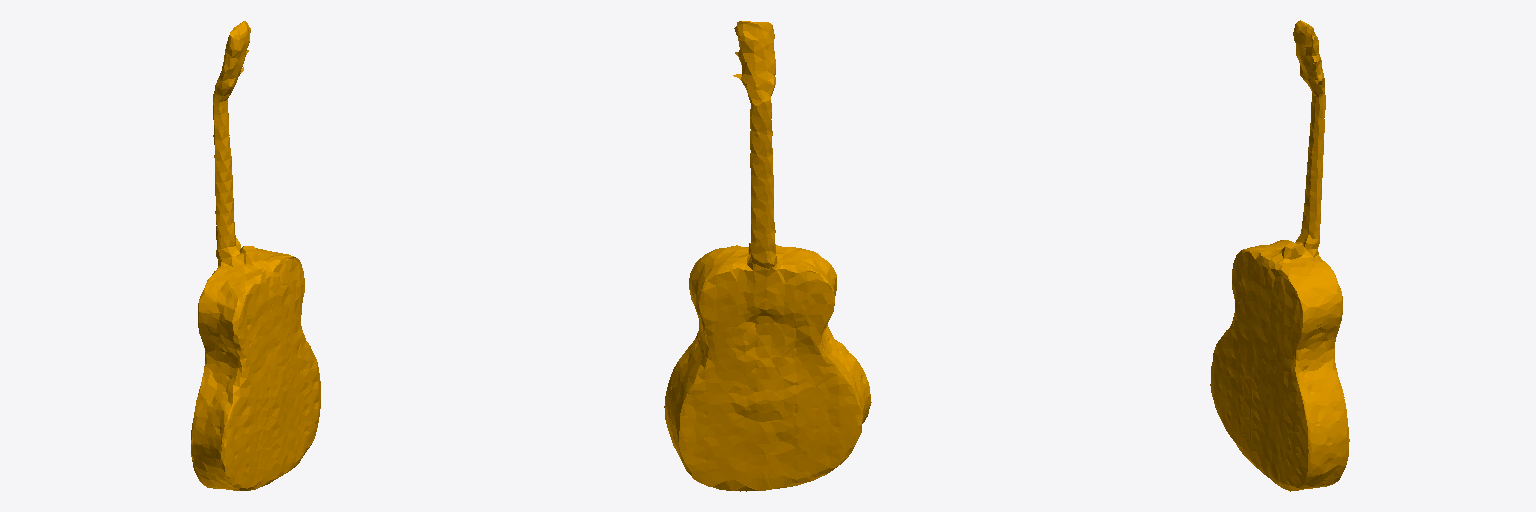
The robot description file, URDF, robot "model_1778240713":
<?xml version="1.0" ?>
<robot name="model_1778240713">
  <link name="base_link">
    <inertial>
      <origin xyz="0.05909789961566357 -0.47775921594201026 2.5401233342113034" rpy="0 0 0"/>
      <mass value="1.9181677014467473"/>
      <inertia ixx="1.4625334563880206" ixy="0.044890112172882544" ixz="0.13544441176253125" iyy="0.408132209501002" iyz="0.0699907363821613" izz="1.5995641864362085"/>
    </inertial>
    <visual>
      <origin xyz="0 0 2.5" rpy="0 0 0"/>
      <geometry>
        <mesh filename="visual.obj" scale="5.0 5.0 5.0"/>
      </geometry>
    </visual>
    <collision>
      <origin xyz="0 0 2.5" rpy="0 0 0"/>
      <geometry>
        <mesh filename="collision.obj" scale="5.0 5.0 5.0"/>
      </geometry>
    </collision>
  </link>
</robot>

--- Render facts (derived) ---
The picture shows the robot from 3 angles, left to right: view 1: azimuth 30°, elevation 25°; view 2: azimuth 150°, elevation 25°; view 3: azimuth 270°, elevation 25°; orthographic projection.
Robot: model_1778240713 — 1 links, 0 joints (none); root link base_link; default pose: all joints at 0.
Links seen in each view (by area): view 1: base_link; view 2: base_link; view 3: base_link.
Link boxes in pixels (x1=…): base_link: x1=191, y1=21, x2=320, y2=490; base_link: x1=664, y1=21, x2=871, y2=491; base_link: x1=1210, y1=20, x2=1349, y2=491.
Size in the robot's own frame: 1.85 by 1.4 by 5 metres.
Meshes: 1 distinct files referenced, 1 mesh visuals loaded (1 OBJ).
